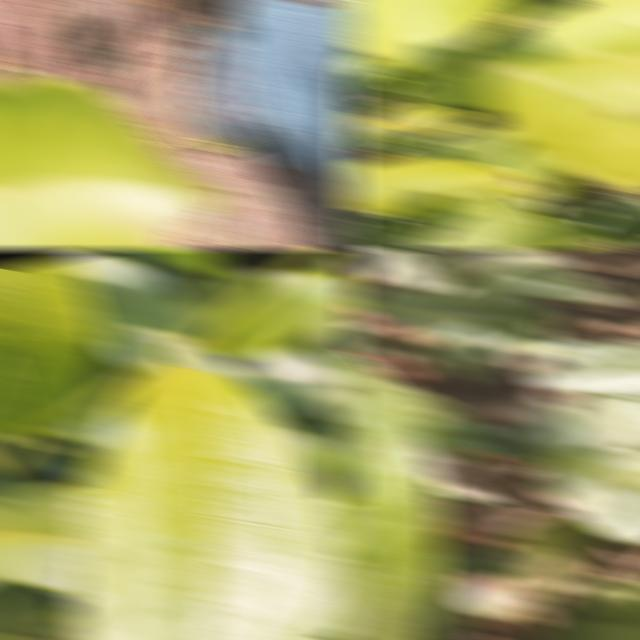Leaf: (69, 365, 347, 640), (0, 76, 220, 250), (344, 352, 446, 640), (398, 0, 640, 107), (482, 52, 640, 194), (0, 254, 107, 435), (64, 249, 199, 371), (454, 512, 596, 619), (383, 380, 505, 502), (206, 268, 360, 359), (344, 155, 538, 215), (356, 287, 558, 341), (533, 446, 640, 546), (0, 484, 86, 591), (232, 344, 345, 417), (420, 191, 556, 250), (439, 263, 617, 304), (533, 576, 640, 640), (524, 342, 640, 398), (374, 123, 525, 164), (420, 311, 498, 386), (486, 141, 575, 203), (564, 391, 640, 450), (517, 395, 590, 455), (315, 307, 360, 391), (369, 248, 452, 291), (0, 577, 52, 640), (344, 55, 417, 97), (580, 199, 640, 250), (344, 218, 434, 250), (377, 105, 475, 134), (344, 122, 418, 154), (373, 230, 439, 250)
